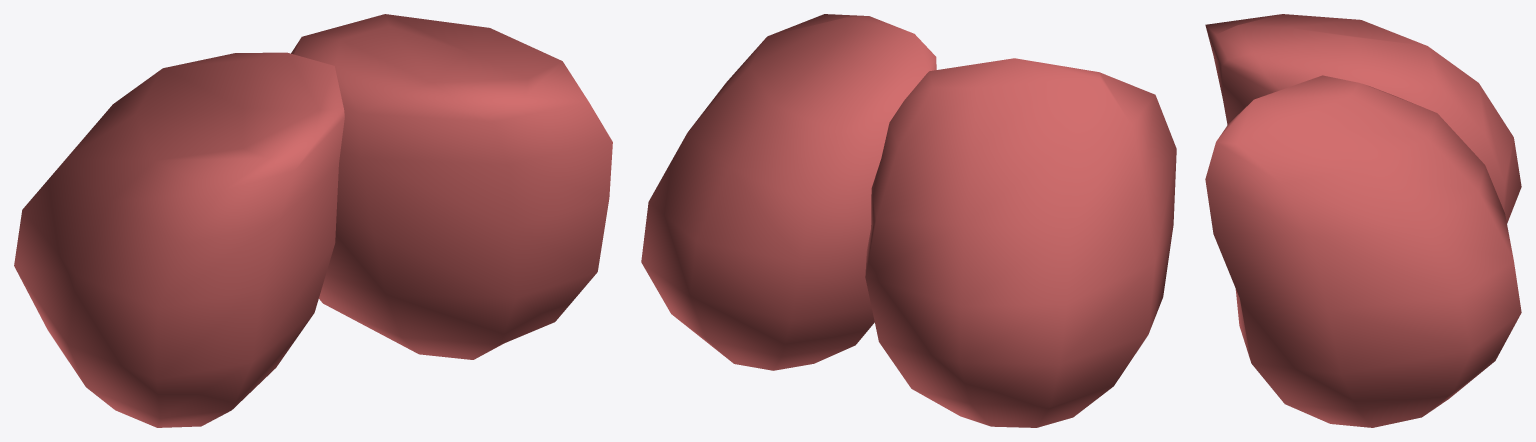
Rendered from Cheeks_Mesh.fbx.
3 views of the same model, side by side, from view 1: azimuth 30°, elevation 25°; view 2: azimuth 150°, elevation 25°; view 3: azimuth 270°, elevation 25° (orthographic). The views are drawn at different scales.
Visible parts, largest first — view 1: Cheek_Mesh_01, Cheek_Mesh_02; view 2: Cheek_Mesh_01, Cheek_Mesh_02; view 3: Cheek_Mesh_02, Cheek_Mesh_01.
Part boxes in pixels (<box>): Cheek_Mesh_01: <box>14,52,344,427</box>; Cheek_Mesh_02: <box>291,14,612,359</box>; Cheek_Mesh_01: <box>865,58,1176,427</box>; Cheek_Mesh_02: <box>641,14,936,370</box>; Cheek_Mesh_02: <box>1205,75,1521,427</box>; Cheek_Mesh_01: <box>1205,14,1521,223</box>.
Bounding box in the file's own units: 0.3941 × 0.2498 × 0.2459.
